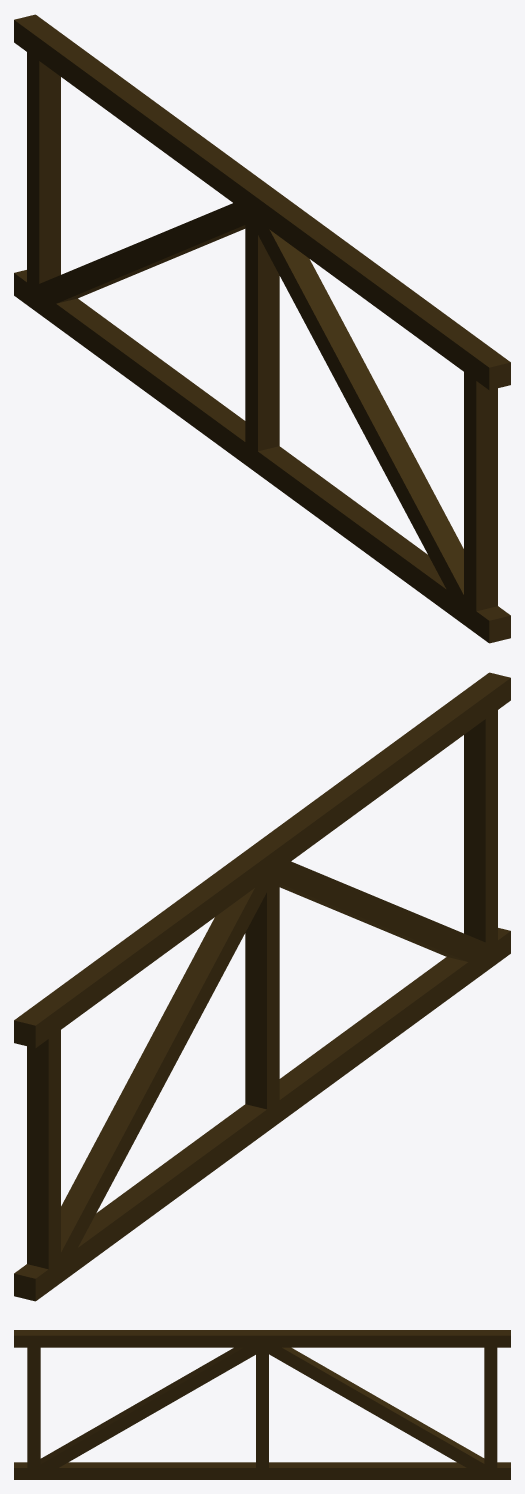
Rendered from klesta.FBX.
3 renders of one model, top to bottom at view 1: azimuth 30°, elevation 25°; view 2: azimuth 150°, elevation 25°; view 3: azimuth 270°, elevation 25°, orthographic. The views are drawn at different scales.
Parts seen in each view (by area): view 1: Box373; view 2: Box373; view 3: Box373.
Boxes of the visible parts, x1,y1,x2,y2 form: Box373: [14, 14, 510, 643]; Box373: [14, 672, 510, 1301]; Box373: [14, 1330, 510, 1479].
Bounding box in the file's own units: 10 × 122 × 380.
